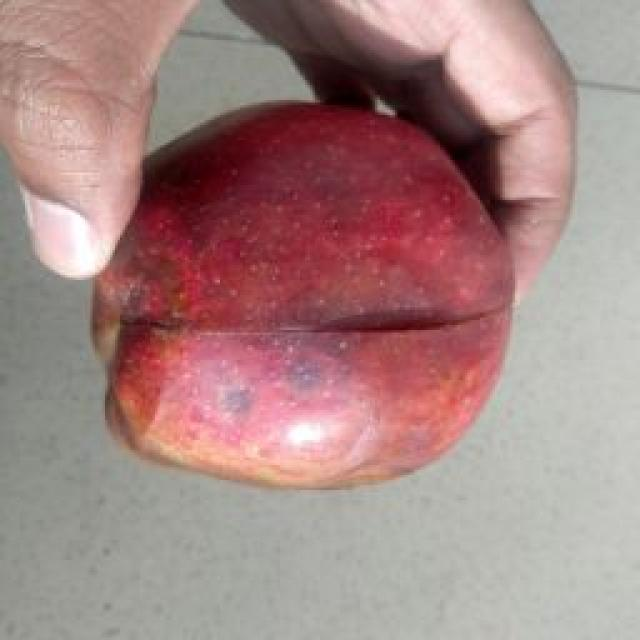Bad_Apple: (95, 104, 510, 487)
